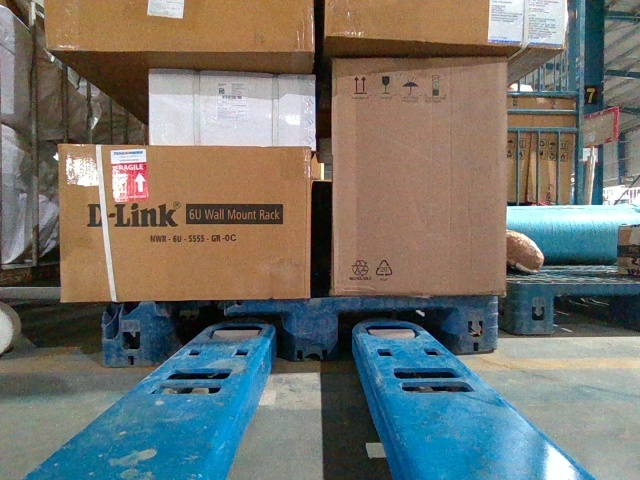block: (105, 299, 156, 364), (287, 300, 337, 363), (452, 296, 500, 353), (519, 281, 555, 334)
front: (107, 296, 496, 364)
hole pallet: (156, 309, 294, 370), (334, 307, 457, 358), (548, 292, 639, 334)
